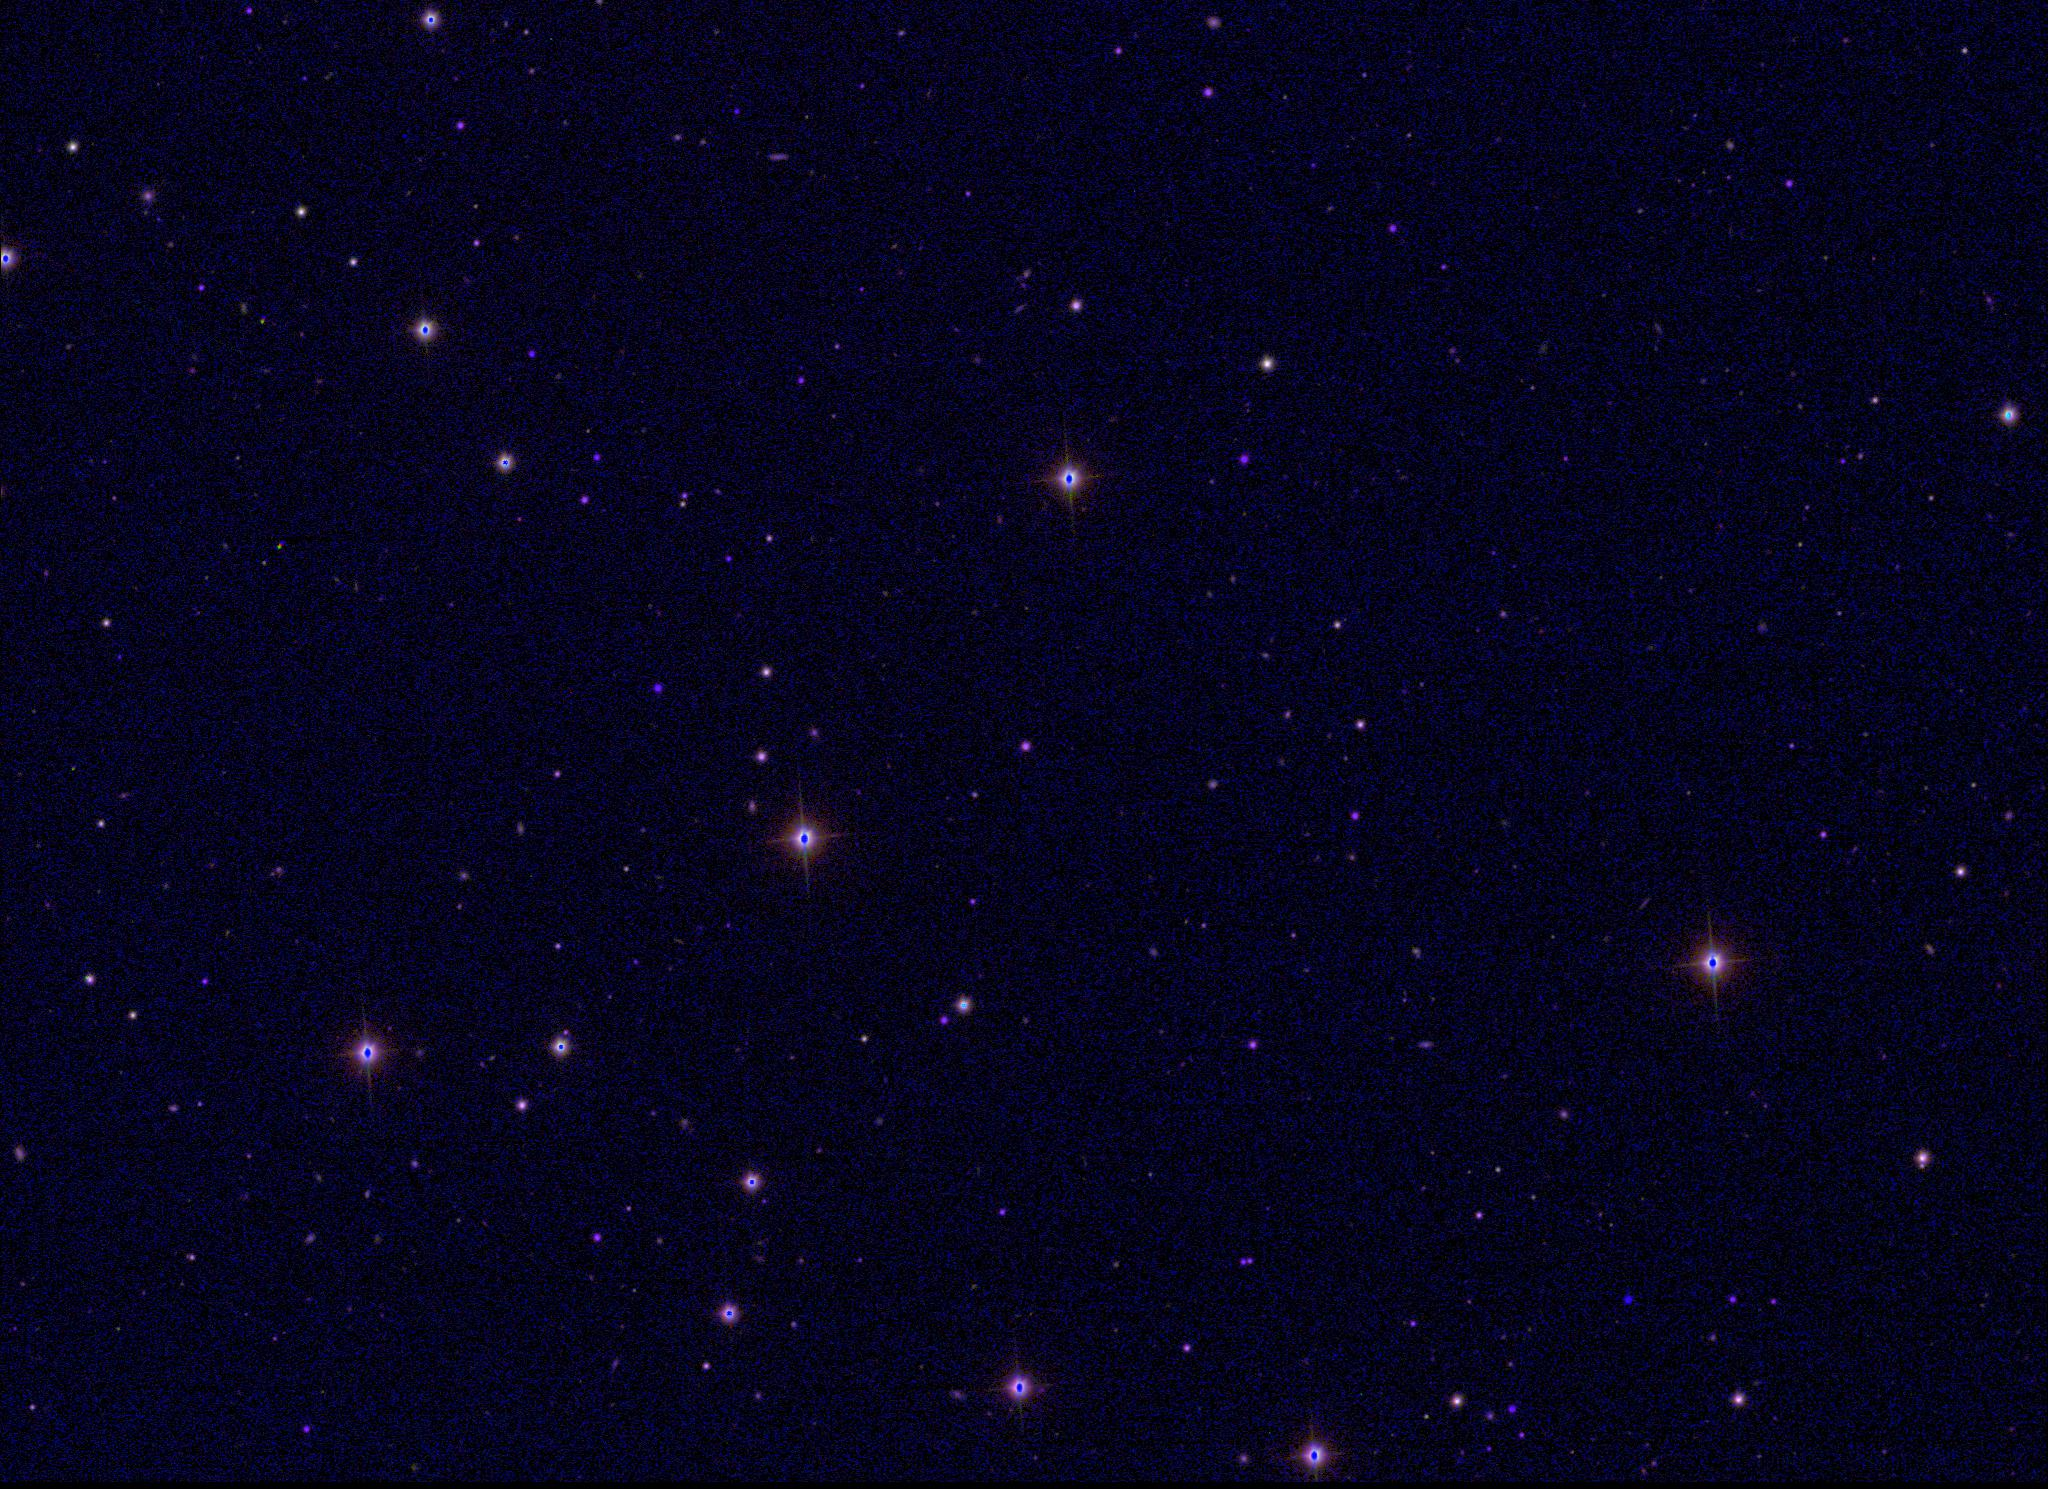L: (1622, 1293, 1636, 1308)
